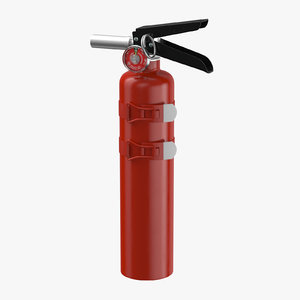fire_extinguisher: (89, 18, 214, 281)
